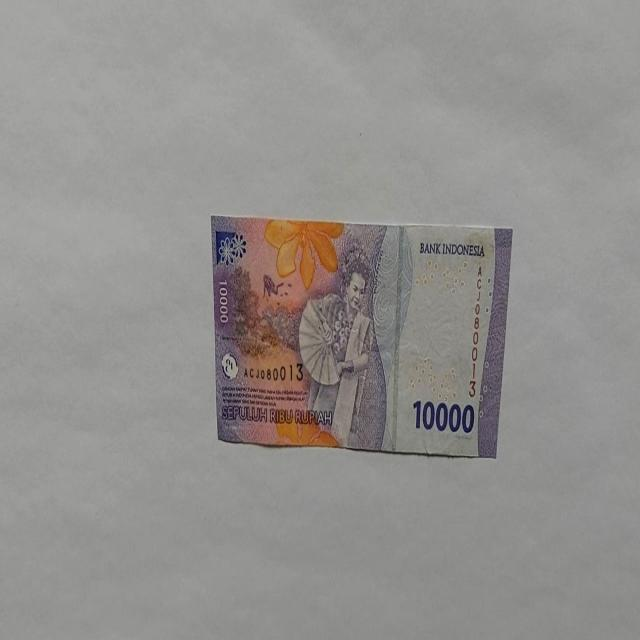Kertas: (210, 214, 512, 458), (412, 397, 475, 435)
